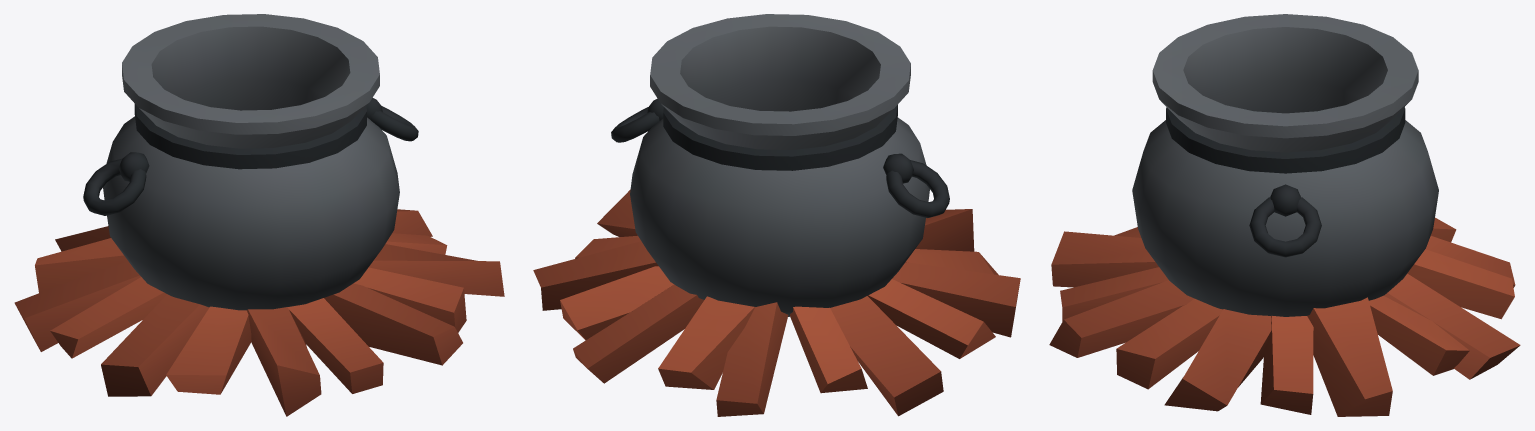
Rendered from Cauldron 1.fbx.
3 views of the same model, side by side, from view 1: azimuth 30°, elevation 25°; view 2: azimuth 150°, elevation 25°; view 3: azimuth 270°, elevation 25° (orthographic). The views are drawn at different scales.
Parts seen in each view (by area): view 1: Cauldron; view 2: Cauldron; view 3: Cauldron.
Part boxes in pixels (bbox=[...]): Cauldron: bbox=[14, 14, 504, 416]; Cauldron: bbox=[533, 14, 1020, 416]; Cauldron: bbox=[1049, 14, 1520, 416].
Bounding box in the file's own units: 290 × 181 × 285.
